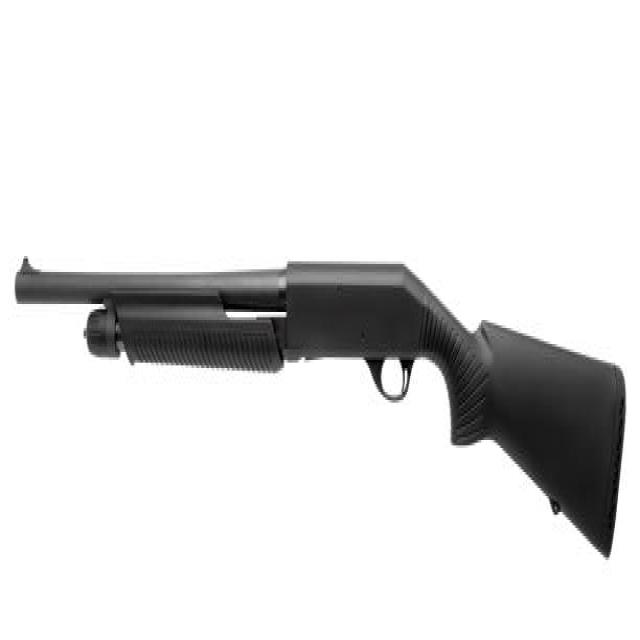rifle: (14, 244, 634, 563)
